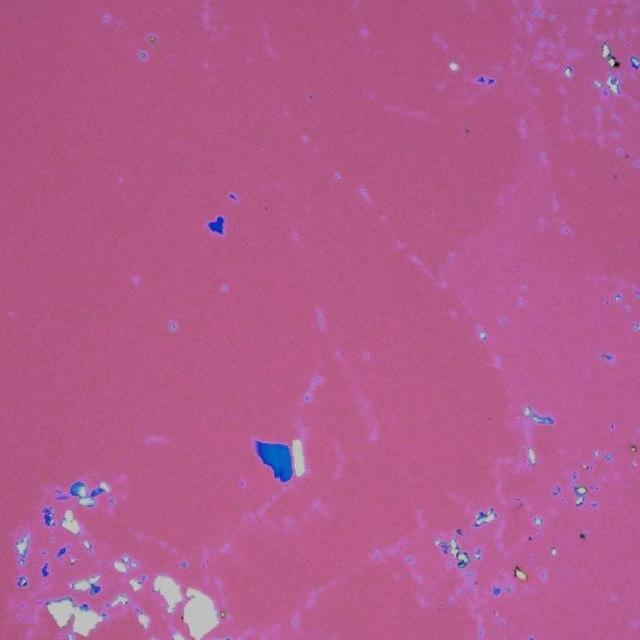monolayer-eWW4: (253, 439, 259, 456)
